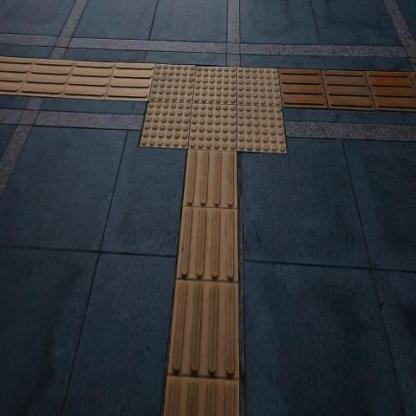podotacti: (105, 36, 301, 188), (164, 152, 243, 415), (0, 53, 148, 102), (283, 68, 415, 108)
